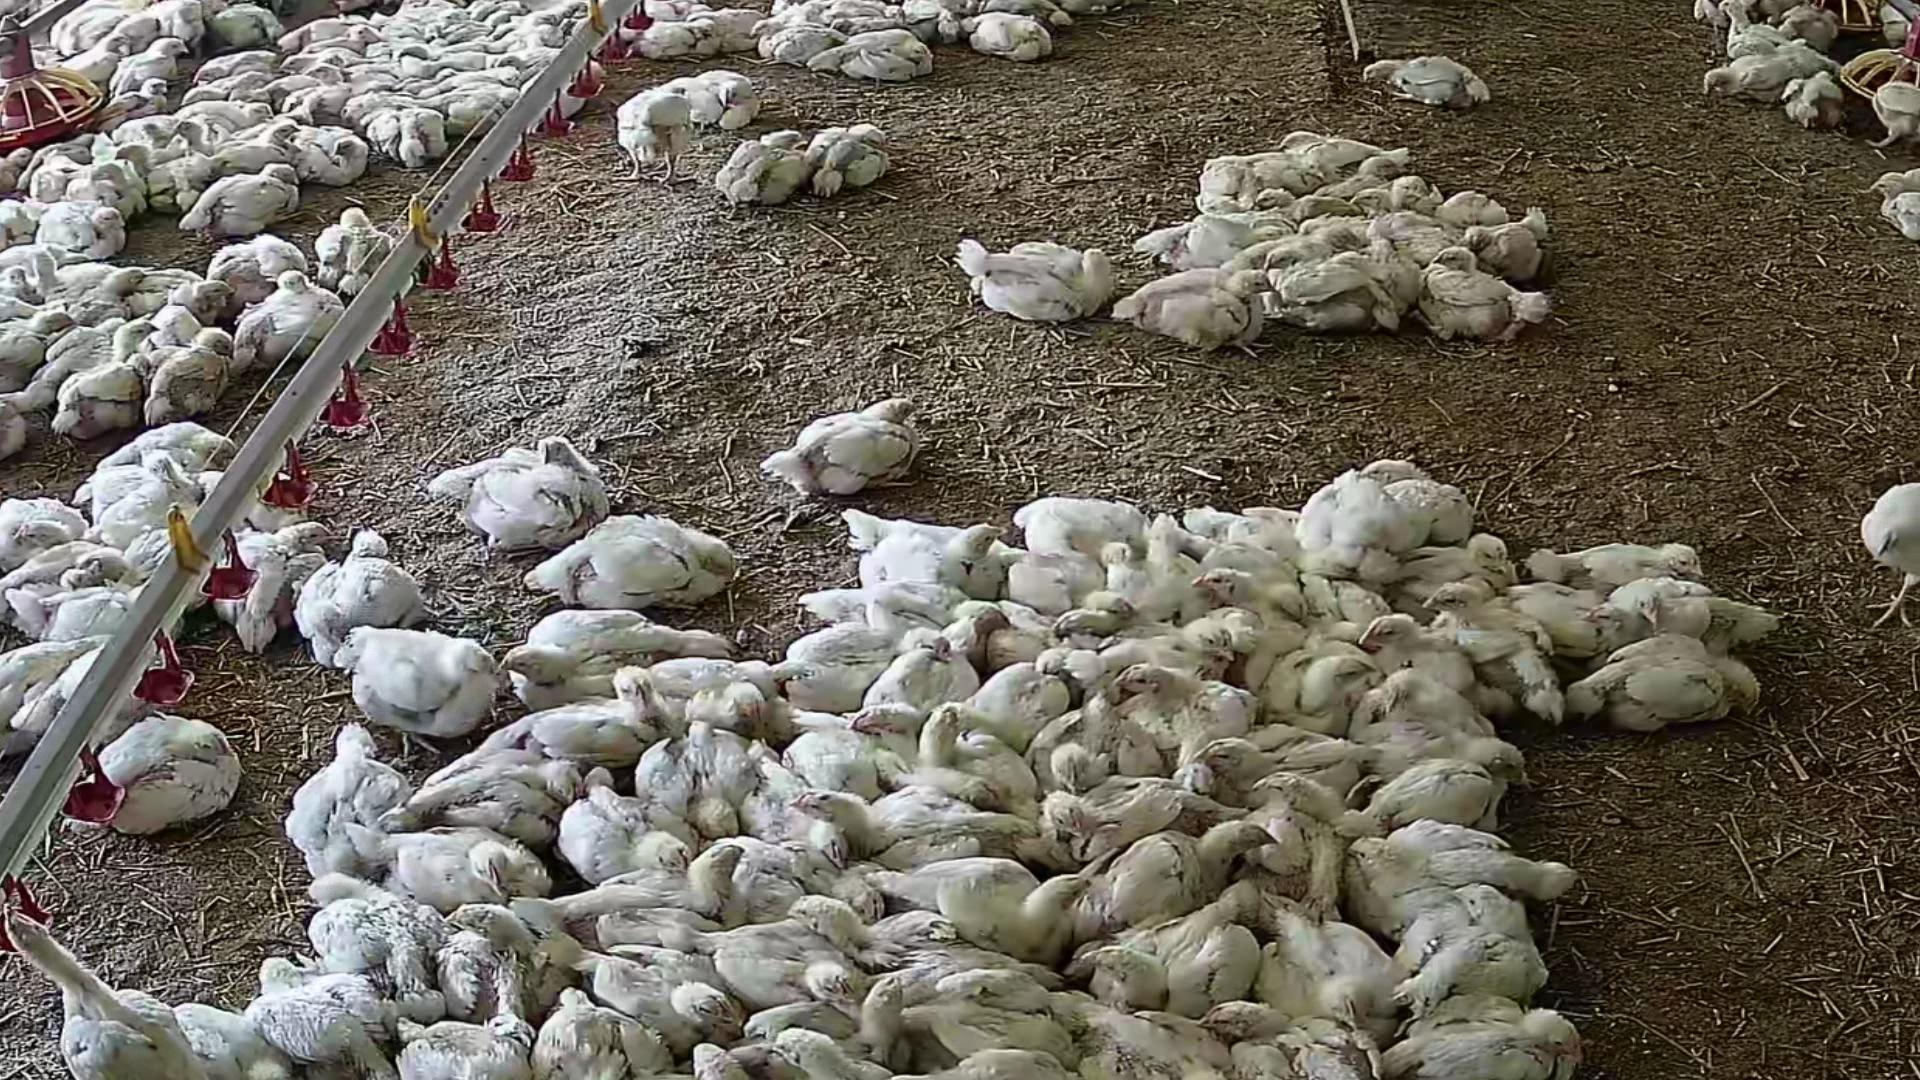poussin: (1, 894, 214, 1080), (471, 600, 715, 703), (88, 695, 237, 861), (313, 872, 495, 996), (430, 431, 616, 547), (396, 749, 599, 852), (338, 617, 505, 741), (790, 886, 1017, 977), (1095, 807, 1275, 920), (1251, 895, 1393, 1038), (545, 514, 748, 611), (371, 808, 535, 926), (746, 389, 942, 484), (1382, 993, 1592, 1080), (862, 971, 1072, 1056), (1196, 985, 1378, 1080), (1429, 571, 1556, 707), (1336, 819, 1532, 906), (847, 696, 1029, 790), (790, 771, 1029, 841), (1039, 989, 1217, 1080), (1375, 886, 1536, 985), (277, 880, 439, 975), (1353, 736, 1527, 823), (700, 819, 862, 910), (642, 906, 839, 980), (0, 649, 132, 756), (593, 932, 728, 1036), (803, 584, 1004, 654), (1085, 938, 1242, 1025), (229, 943, 389, 1026), (1118, 258, 1259, 352), (313, 531, 411, 663), (952, 239, 1106, 322), (295, 737, 393, 865), (1036, 770, 1196, 848), (1619, 579, 1770, 661), (1328, 679, 1506, 748), (227, 269, 347, 371), (1109, 662, 1237, 757), (448, 898, 554, 1010), (215, 513, 295, 658), (1596, 650, 1768, 717), (837, 518, 1004, 588), (1305, 468, 1423, 567), (467, 687, 646, 752), (535, 988, 655, 1080), (945, 873, 1095, 947), (585, 849, 750, 915), (877, 617, 996, 705), (1427, 252, 1535, 348), (62, 324, 165, 423), (649, 724, 756, 819), (171, 1002, 301, 1079), (1494, 579, 1619, 657), (1346, 601, 1460, 684), (1851, 483, 1920, 618), (1185, 724, 1290, 812), (388, 1017, 531, 1080), (779, 617, 919, 682), (971, 651, 1084, 731), (1270, 262, 1395, 332), (185, 164, 302, 237), (790, 711, 885, 802), (1364, 458, 1473, 535), (1261, 764, 1357, 848), (720, 125, 810, 215), (553, 779, 647, 862), (1352, 190, 1466, 257), (1280, 633, 1365, 723), (1191, 560, 1317, 620), (1551, 539, 1718, 584), (644, 655, 796, 704), (112, 269, 243, 326), (152, 327, 237, 413), (1389, 529, 1510, 588), (1114, 617, 1230, 679), (1031, 725, 1118, 807), (1360, 58, 1498, 108), (314, 208, 393, 295), (102, 454, 190, 531), (916, 692, 972, 815), (618, 87, 695, 174), (1097, 535, 1196, 600), (803, 123, 894, 193), (0, 547, 140, 592), (886, 853, 1029, 897), (820, 28, 932, 82), (62, 265, 145, 336), (1174, 506, 1298, 554), (50, 591, 146, 649), (95, 430, 248, 465), (1153, 215, 1288, 255), (1702, 46, 1812, 95), (1030, 506, 1164, 546), (286, 119, 368, 183), (773, 1030, 877, 1080), (186, 476, 319, 514), (498, 55, 589, 111), (0, 502, 100, 553), (1466, 211, 1549, 269), (204, 243, 307, 289), (669, 70, 758, 123), (1366, 231, 1420, 315), (216, 120, 301, 174), (109, 38, 203, 86), (1716, 0, 1795, 55), (967, 12, 1054, 62), (752, 20, 851, 63), (886, 1055, 1056, 1080), (873, 973, 918, 1065), (53, 204, 131, 257), (1863, 69, 1920, 140), (373, 103, 439, 164), (1018, 553, 1093, 603), (80, 161, 146, 218), (1292, 133, 1415, 164), (641, 20, 716, 66), (211, 0, 287, 45), (1317, 153, 1400, 194), (1259, 189, 1367, 219), (1193, 175, 1316, 202), (47, 37, 131, 75), (179, 73, 276, 105), (1873, 170, 1920, 233), (980, 0, 1075, 32), (690, 1035, 753, 1080), (1789, 66, 1841, 120), (95, 84, 178, 117), (1060, 578, 1142, 611), (692, 7, 767, 42), (433, 91, 502, 129), (1302, 211, 1373, 248), (33, 127, 100, 165), (282, 11, 360, 44), (1247, 240, 1332, 270), (1778, 7, 1836, 50), (174, 103, 274, 128), (1441, 189, 1514, 222), (440, 69, 535, 94), (820, 5, 901, 33), (202, 50, 277, 79), (905, 0, 980, 28), (0, 266, 36, 324), (398, 47, 489, 70), (0, 200, 44, 247), (33, 252, 70, 305), (0, 142, 37, 194), (512, 15, 567, 49), (302, 63, 375, 88), (1040, 608, 1138, 626), (276, 87, 356, 108), (113, 141, 161, 175), (1402, 175, 1439, 215), (347, 95, 414, 116), (1208, 154, 1304, 166), (1876, 169, 1920, 193), (1689, 0, 1730, 22), (349, 24, 393, 42), (282, 55, 331, 65)
